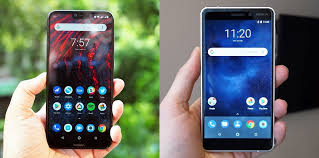nokia: (199, 3, 276, 152), (45, 8, 117, 150)
